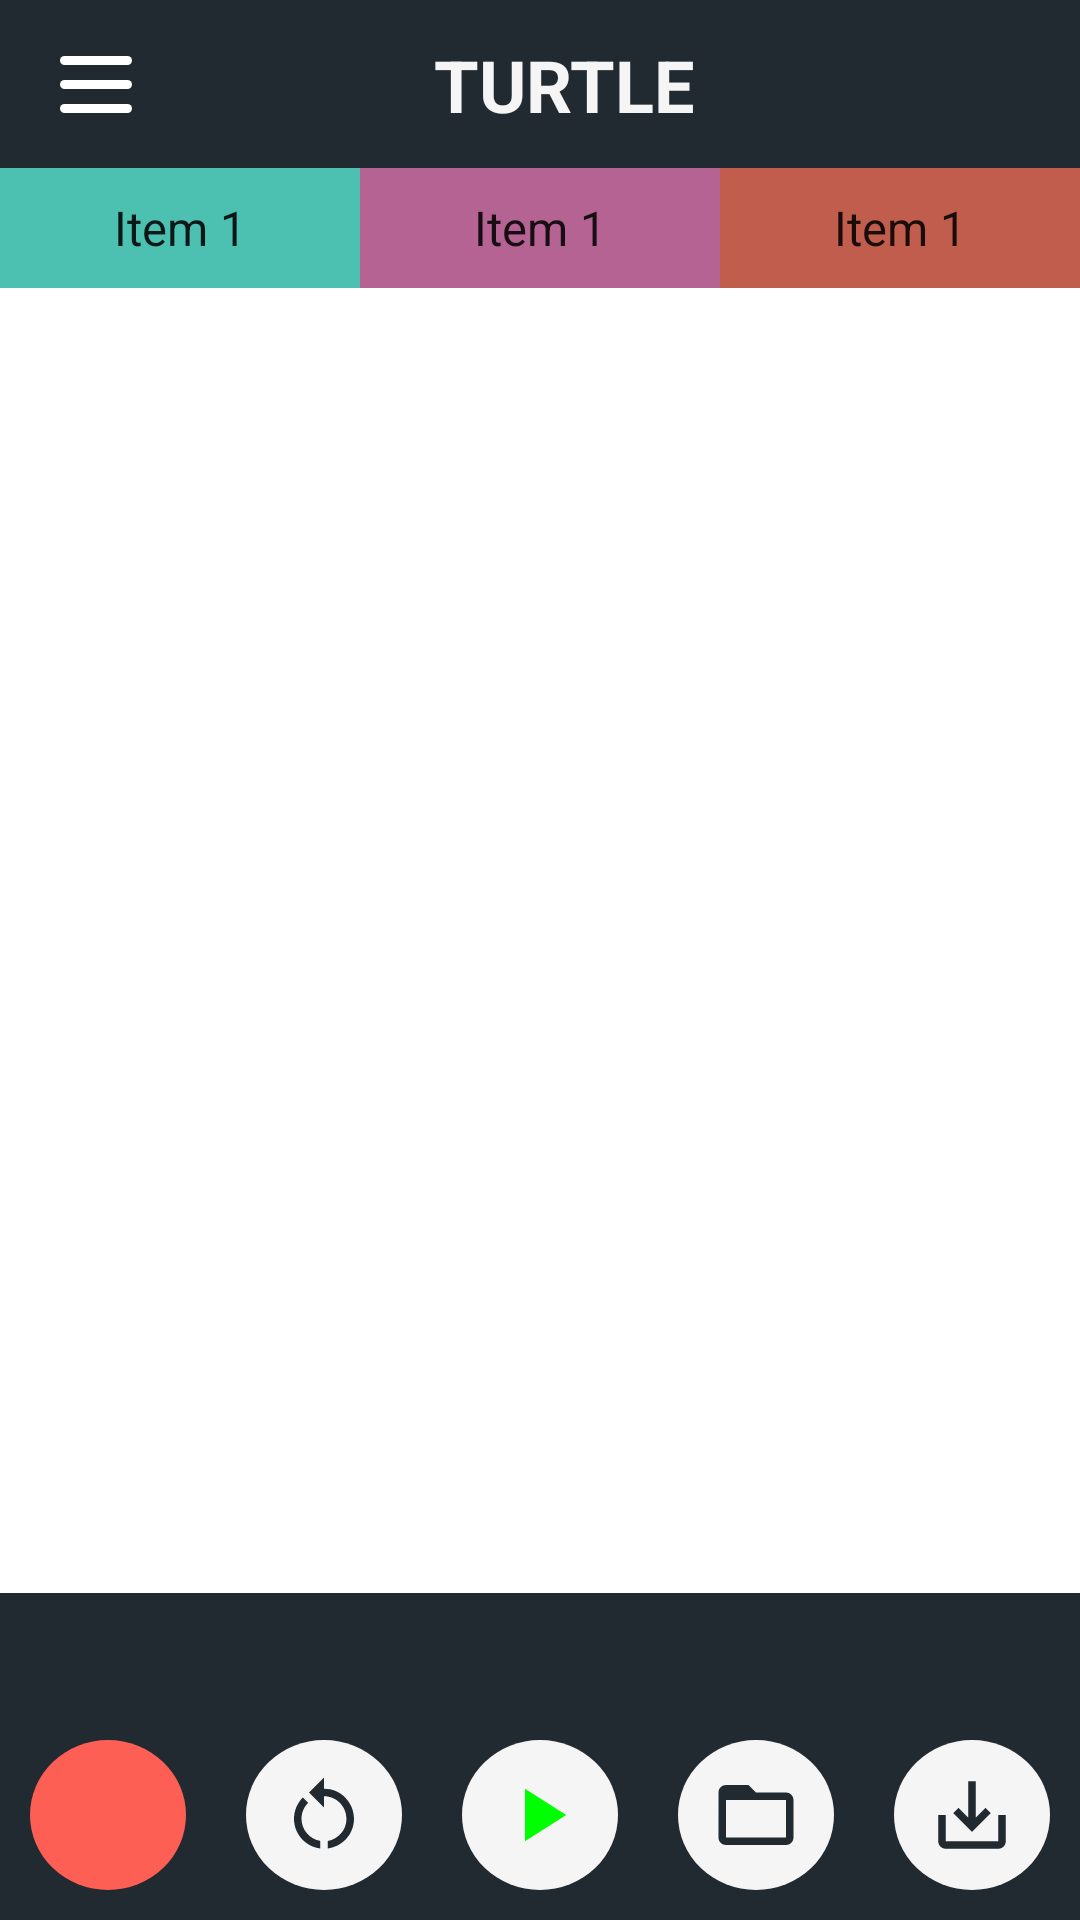

Where icons sit on this 1080 × 1920 app screen, as box(x1, y1, x2, y2):
Load button: box(678, 1740, 834, 1890)
Menu button: box(60, 56, 132, 113)
Play and pause button: box(462, 1740, 618, 1890)
Reset button: box(246, 1740, 402, 1890)
Save button: box(894, 1740, 1050, 1890)
